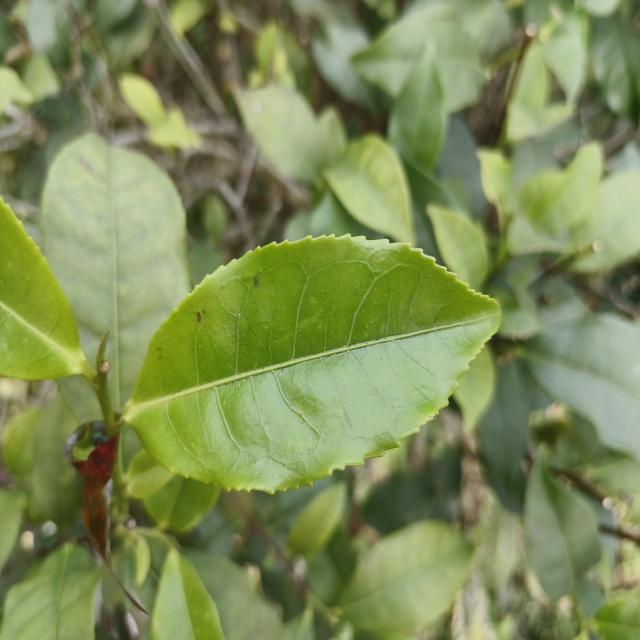Leaf: (123, 236, 500, 492), (40, 133, 190, 410), (518, 314, 640, 457), (0, 200, 93, 380), (339, 521, 472, 634), (352, 1, 483, 111), (524, 448, 601, 598), (324, 135, 415, 244), (0, 544, 100, 640), (362, 448, 461, 534), (476, 362, 530, 512), (235, 85, 316, 182), (388, 45, 448, 174), (518, 143, 602, 235), (29, 396, 82, 531), (573, 169, 640, 272), (152, 549, 224, 640), (590, 2, 640, 121), (312, 20, 376, 107), (427, 204, 488, 289), (144, 475, 220, 533), (288, 482, 347, 555), (306, 528, 356, 606), (453, 347, 495, 431), (119, 74, 166, 126), (593, 588, 640, 640), (128, 450, 174, 498), (58, 375, 102, 423), (22, 54, 60, 101)
